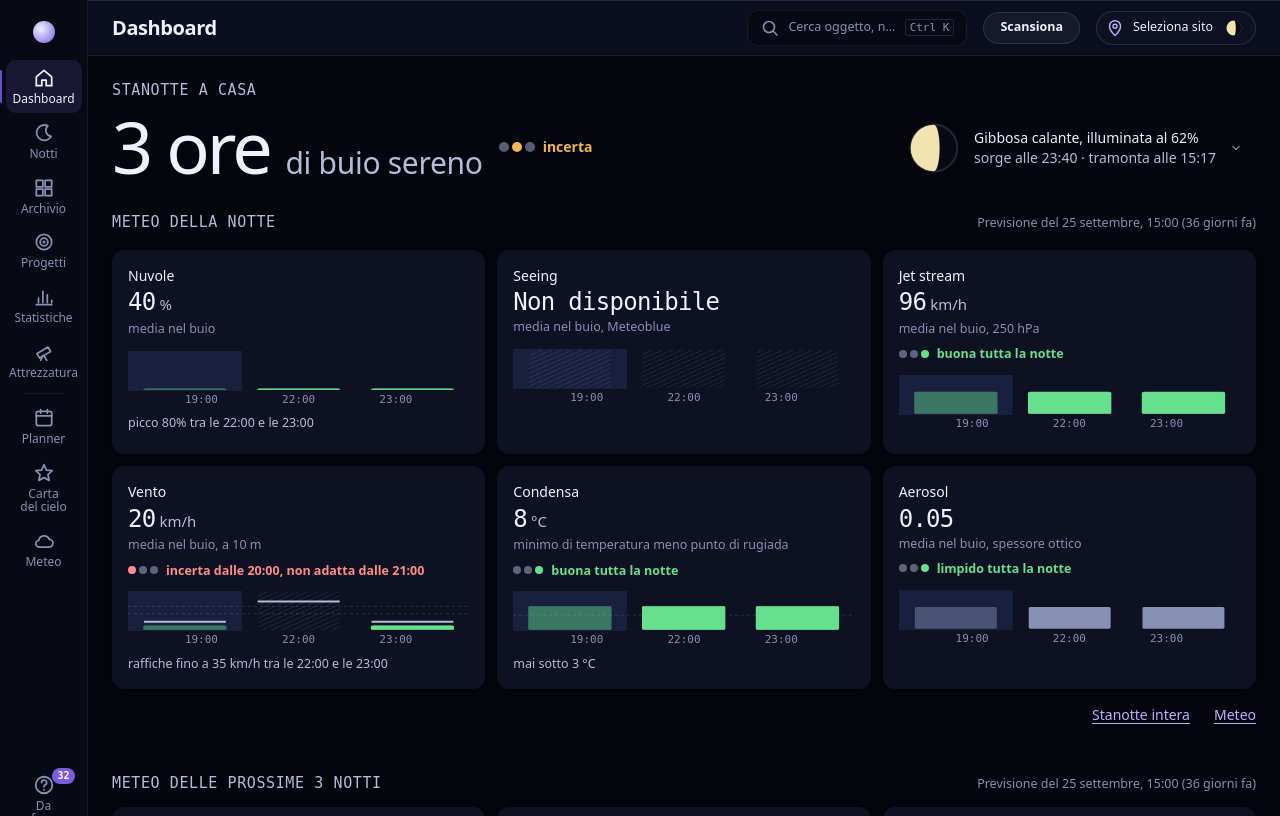
Test: il dettaglio della Luna › col calendario non ancora scritto (primo giro, sito appena spostato) lo rilegge finche' arriva
The image size is (1280, 816).
What coordinates should you click on to do the following:
click the button "Gibbosa calante, illuminata al 62%"
I would click on:
 (1075, 148)
Its box is [894,112,1256,184].
Wait 16000 ms
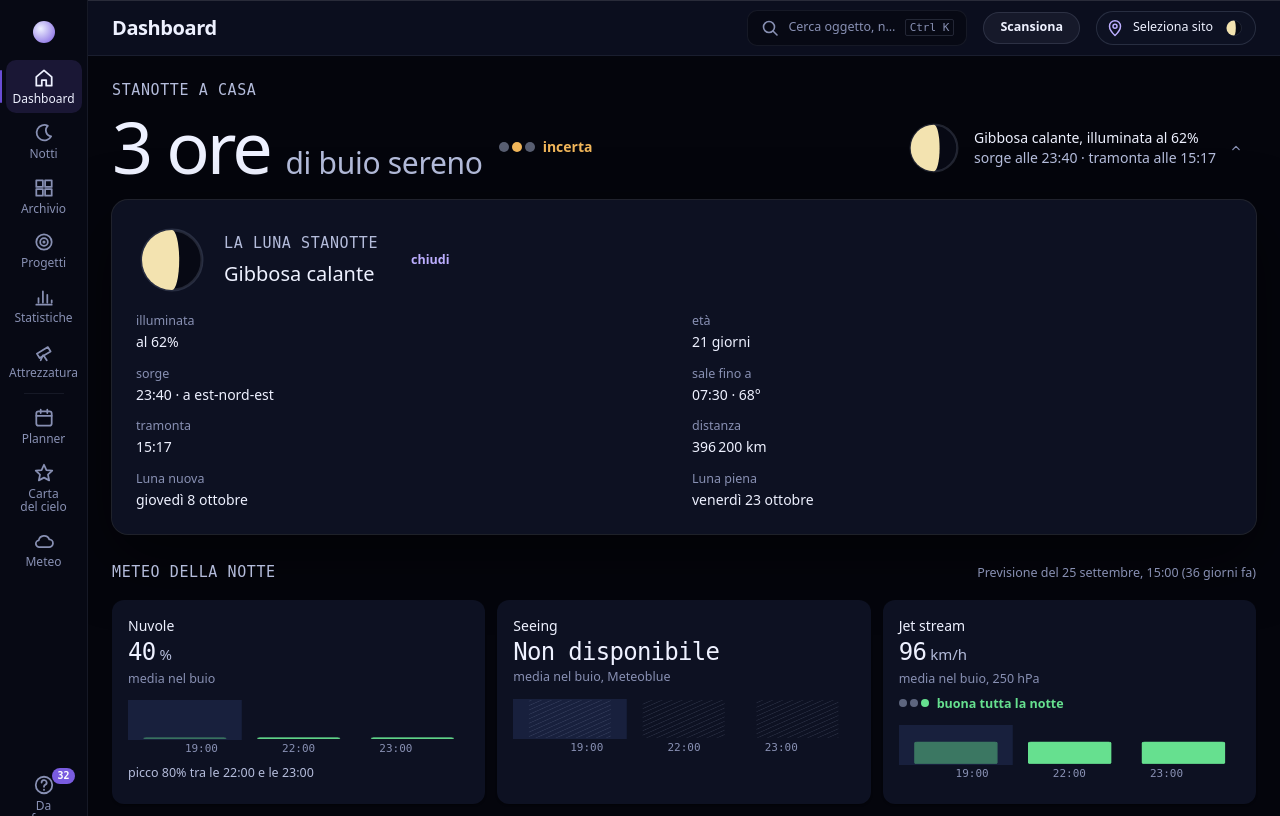
Result: the dialog "la Luna stanotte" is shown at [112,200,1256,534]
